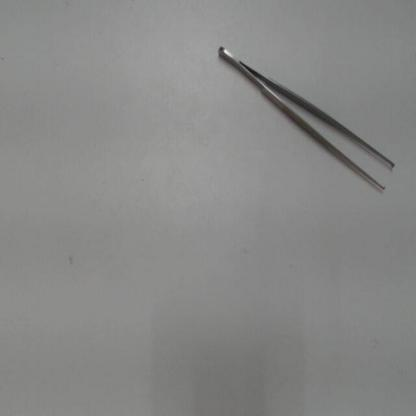Gillies Toothed Dissector: (209, 38, 409, 201)
